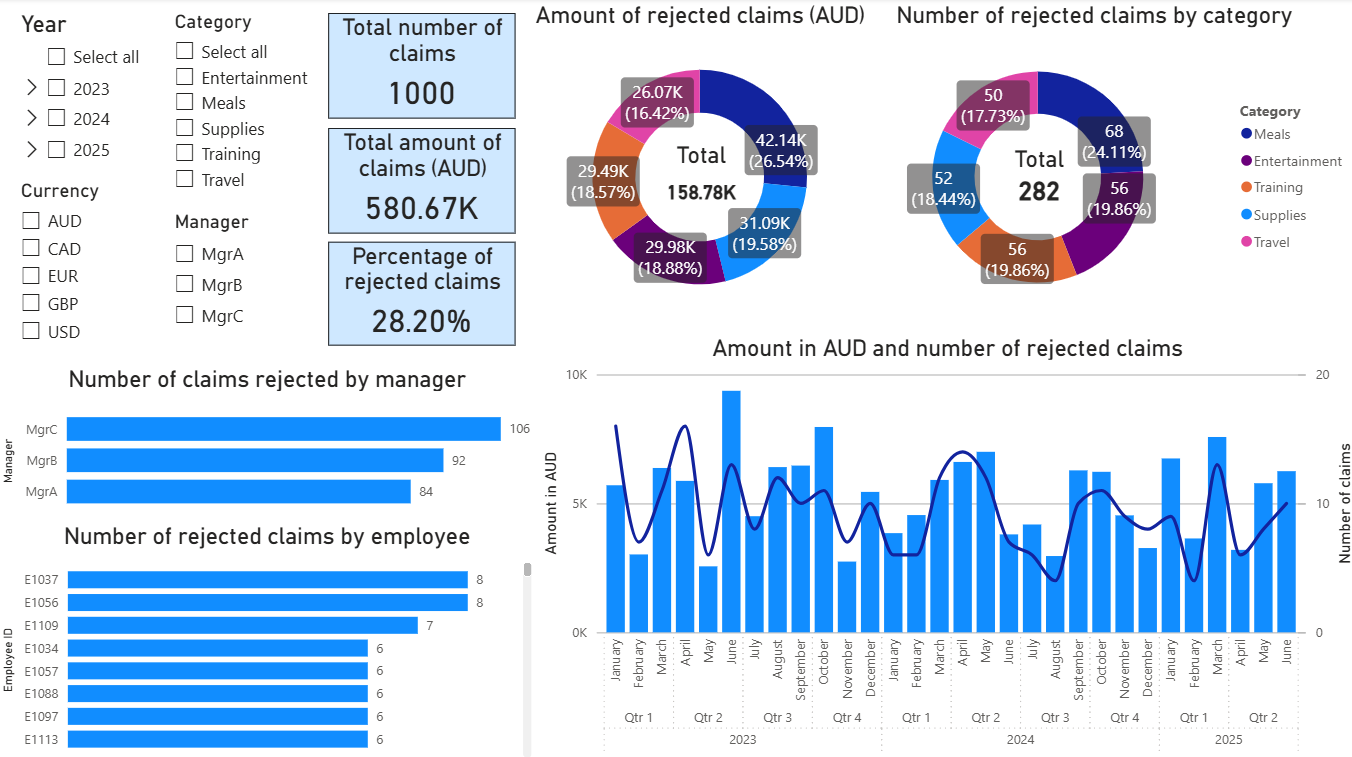

What the dashboard file says about the page in this screenshot:
{"tool":"powerbi","page":{"name":"Rejected claims","canvas":[1280,720],"ordinal":0},"visuals":[{"type":"donutChart","title":"Number of rejected claims by category","fields":{"Category":["Claim.Category"],"Y":["CountNonNull(Claim.ClaimID)"]},"box":[783.6,3,495.5,306],"z":0,"group":"g2"},{"type":"listSlicer","fields":{"Values":["Claim.SubmitDate.Variation.Date Hierarchy.Year","Claim.SubmitDate.Variation.Date Hierarchy.Quarter","Claim.SubmitDate.Variation.Date Hierarchy.Month","Claim.SubmitDate.Variation.Date Hierarchy.Day"]},"box":[17.4,12.2,128.7,266],"z":0},{"type":"donutChart","title":"Amount of rejected claims (AUD)","fields":{"Y":["Sum(Claim.Amount_AUD)"],"Category":["Claim.Category"]},"box":[450.8,3,419,306],"z":1000,"group":"g3"},{"type":"card","title":"Total","fields":{"Values":["Count(Claim.ClaimID)"]},"box":[935.8,138,86.6,63.5],"z":1000,"group":"g2"},{"type":"listSlicer","fields":{"Values":["Claim.Currency"]},"box":[17.4,170.4,107.8,241.7],"z":1000},{"type":"listSlicer","fields":{"Values":["Claim.Category"]},"box":[161.7,12.2,153,229.5],"z":2000},{"type":"card","title":"Total","fields":{"Values":["Sum(Claim.Amount_AUD)"]},"box":[616,134.2,90.4,71.3],"z":2000,"group":"g3"},{"type":"listSlicer","title":"Manager","fields":{"Values":["Claim.ApprovedBy"]},"box":[161.7,199.9,132.1,264.3],"z":3000},{"type":"group","id":"g1","title":"Group 1","box":[783.6,3,495.5,306],"z":4000},{"type":"card","title":"Total number of claims","fields":{"Values":["Count(Claim.ClaimID)"]},"box":[311.2,13.9,175.6,99.1],"z":5000},{"type":"card","title":"Percentage of rejected claims","fields":{"Values":["Claim.Rejected_Percentage"]},"box":[311.2,229.5,175.6,97.4],"z":6000},{"type":"clusteredBarChart","title":"Number of rejected claims by employee","fields":{"Category":["Claim.EmployeeID"],"Y":["CountNonNull(Claim.ClaimID)"]},"box":[0,493.8,507.7,226],"z":7000},{"type":"group","id":"g2","title":"Group 2","box":[783.6,3,495.5,306],"z":7001,"group":"g1"},{"type":"lineClusteredColumnComboChart","title":"Amount in AUD and number of rejected claims","fields":{"Category":["Claim.SubmitDate.Variation.Date Hierarchy.Year","Claim.SubmitDate.Variation.Date Hierarchy.Quarter","Claim.SubmitDate.Variation.Date Hierarchy.Month"],"Y":["Sum(Claim.Amount_AUD)"],"Y2":["CountNonNull(Claim.ClaimID)"]},"box":[507.7,316.4,772,403.4],"z":8000},{"type":"clusteredBarChart","title":"Number of claims rejected by manager","fields":{"Y":["CountNonNull(Claim.ClaimID)"],"Category":["Claim.ApprovedBy"]},"box":[0,346,507.7,147.8],"z":9000},{"type":"group","id":"g3","title":"Group 3","box":[450.8,3,419,306],"z":10000},{"type":"card","title":"Total amount of claims (AUD)","fields":{"Values":["Sum(Claim.Amount_AUD)"]},"box":[311.2,121.7,175.6,99.1],"z":10001}]}

Visuals, with their boxes in screenshot pixels (x1, y1, x2, y2), scaled from the page's 1280x720 canvas onto the 1352x757 screenshot:
"Number of rejected claims by category" donutChart: bbox=[828, 3, 1351, 325]
listSlicer - Claim.SubmitDate.Variation.Date Hierarchy.Year x Claim.SubmitDate.Variation.Date Hierarchy.Quarter: bbox=[18, 13, 154, 292]
"Amount of rejected claims (AUD)" donutChart: bbox=[476, 3, 919, 325]
"Total" card: bbox=[988, 145, 1080, 212]
listSlicer - Claim.Currency: bbox=[18, 179, 132, 433]
listSlicer - Claim.Category: bbox=[171, 13, 332, 254]
"Total" card: bbox=[651, 141, 746, 216]
"Manager" listSlicer: bbox=[171, 210, 310, 488]
"Group 1" group: bbox=[828, 3, 1351, 325]
"Total number of claims" card: bbox=[329, 15, 514, 119]
"Percentage of rejected claims" card: bbox=[329, 241, 514, 344]
"Number of rejected claims by employee" clusteredBarChart: bbox=[0, 519, 536, 756]
"Group 2" group: bbox=[828, 3, 1351, 325]
"Amount in AUD and number of rejected claims" lineClusteredColumnComboChart: bbox=[536, 333, 1351, 756]
"Number of claims rejected by manager" clusteredBarChart: bbox=[0, 364, 536, 519]
"Group 3" group: bbox=[476, 3, 919, 325]
"Total amount of claims (AUD)" card: bbox=[329, 128, 514, 232]
